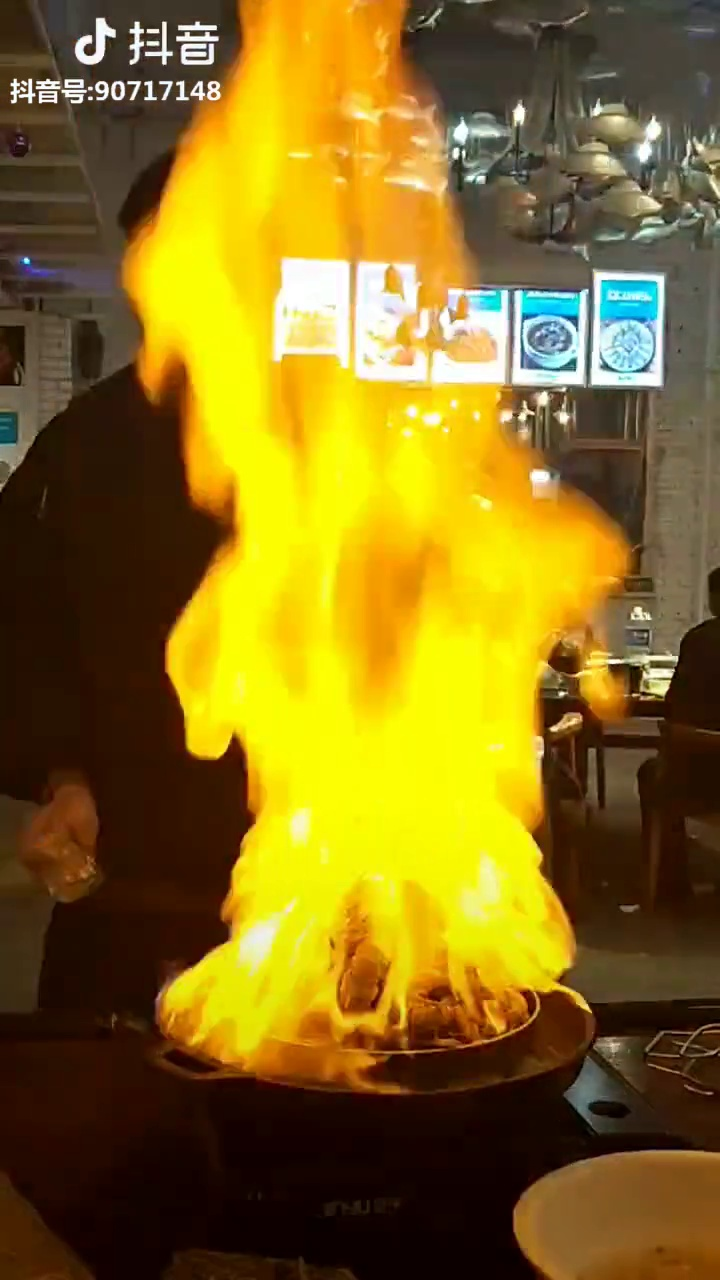fire: (104, 89, 592, 1004)
